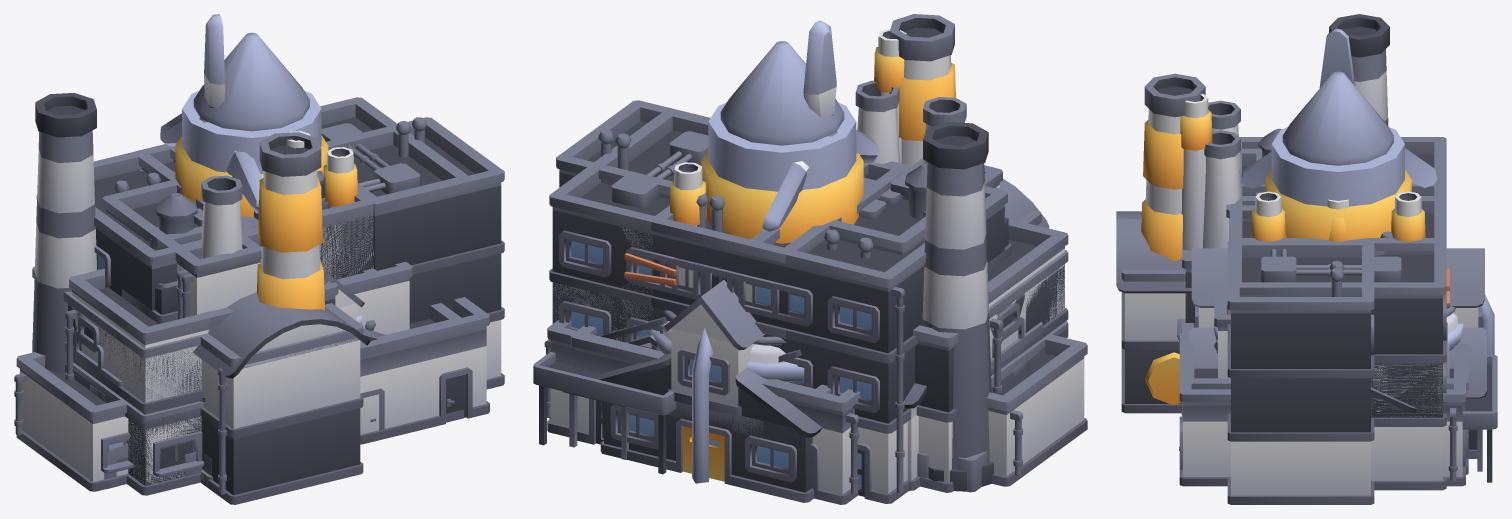
Rendered from kit-industrial.glb.
3 views of the same model, side by side, from view 1: azimuth 30°, elevation 25°; view 2: azimuth 150°, elevation 25°; view 3: azimuth 270°, elevation 25° (orthographic). The views are drawn at different scales.
Visible parts, largest first — view 1: building-n, building-f, building-l, building-r, building-a, building-c, building-q, water-tower, chimney-large, building-h, building-e, blades (+5 smaller); view 2: building-a, building-m, building-f, building-q, building-l, chimney-large, building-d, water-tower, building-c, building-r, detail-tank-large, blades (+6 smaller); view 3: building-r, building-a, building-n, building-c, building-m, chimney-large, building-l, water-tower, building-e, building-f, building-d, blades (+5 smaller).
Boxes of the visible parts, x1=… form: building-n: x1=157, y1=131, x2=370, y2=504; building-f: x1=32, y1=93, x2=338, y2=495; building-l: x1=14, y1=132, x2=412, y2=491; building-r: x1=64, y1=117, x2=504, y2=396; building-a: x1=36, y1=97, x2=470, y2=310; building-c: x1=201, y1=297, x2=489, y2=484; building-q: x1=32, y1=266, x2=463, y2=495; water-tower: x1=193, y1=32, x2=309, y2=131; chimney-large: x1=175, y1=90, x2=328, y2=217; building-h: x1=73, y1=362, x2=205, y2=494; building-e: x1=200, y1=175, x2=338, y2=331; blades: x1=160, y1=14, x2=262, y2=213; building-a: x1=549, y1=109, x2=1007, y2=503; building-m: x1=595, y1=162, x2=822, y2=502; building-f: x1=922, y1=122, x2=1068, y2=491; building-q: x1=563, y1=250, x2=1068, y2=504; building-l: x1=889, y1=14, x2=1087, y2=486; chimney-large: x1=701, y1=102, x2=863, y2=243; building-d: x1=650, y1=162, x2=905, y2=437; water-tower: x1=720, y1=41, x2=844, y2=145; building-c: x1=533, y1=320, x2=831, y2=474; building-r: x1=556, y1=100, x2=1042, y2=370; detail-tank-large: x1=648, y1=310, x2=804, y2=483; blades: x1=762, y1=20, x2=879, y2=232; building-r: x1=1227, y1=240, x2=1449, y2=504; building-a: x1=1230, y1=128, x2=1446, y2=490; building-n: x1=1116, y1=94, x2=1261, y2=413; building-c: x1=1145, y1=237, x2=1497, y2=486; building-m: x1=1189, y1=191, x2=1486, y2=458; chimney-large: x1=1265, y1=127, x2=1411, y2=240; building-l: x1=1141, y1=73, x2=1230, y2=378; water-tower: x1=1282, y1=71, x2=1393, y2=165; building-e: x1=1182, y1=100, x2=1240, y2=327; building-f: x1=1183, y1=14, x2=1389, y2=268; building-d: x1=1230, y1=178, x2=1446, y2=254; blades: x1=1240, y1=28, x2=1437, y2=188.
Size of the model in its own units: 2.71 by 2.31 by 2.18.
Materials: 1 (1 with a texture image).
